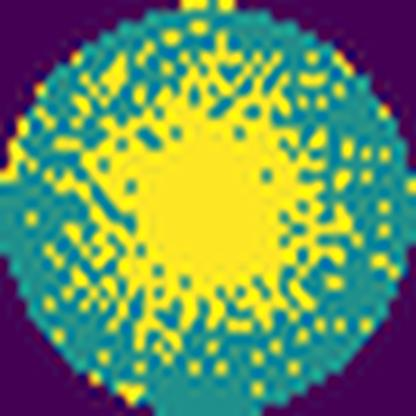Center: (88, 49, 325, 334)
